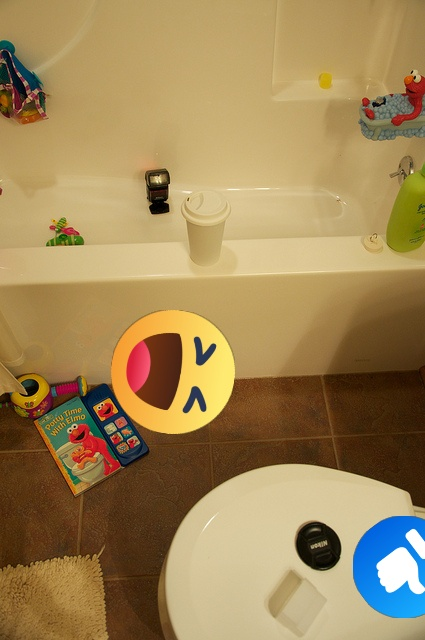haha: (111, 310, 235, 434)
like: (353, 516, 425, 618)
